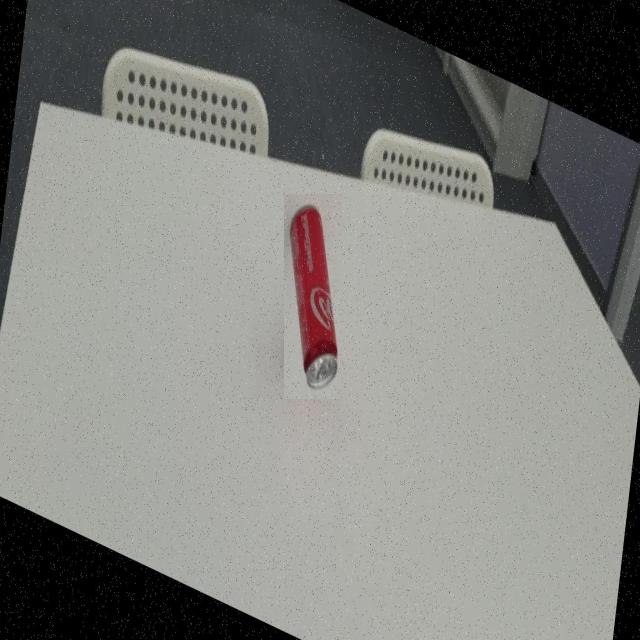coca-cola: (284, 194, 342, 399)
